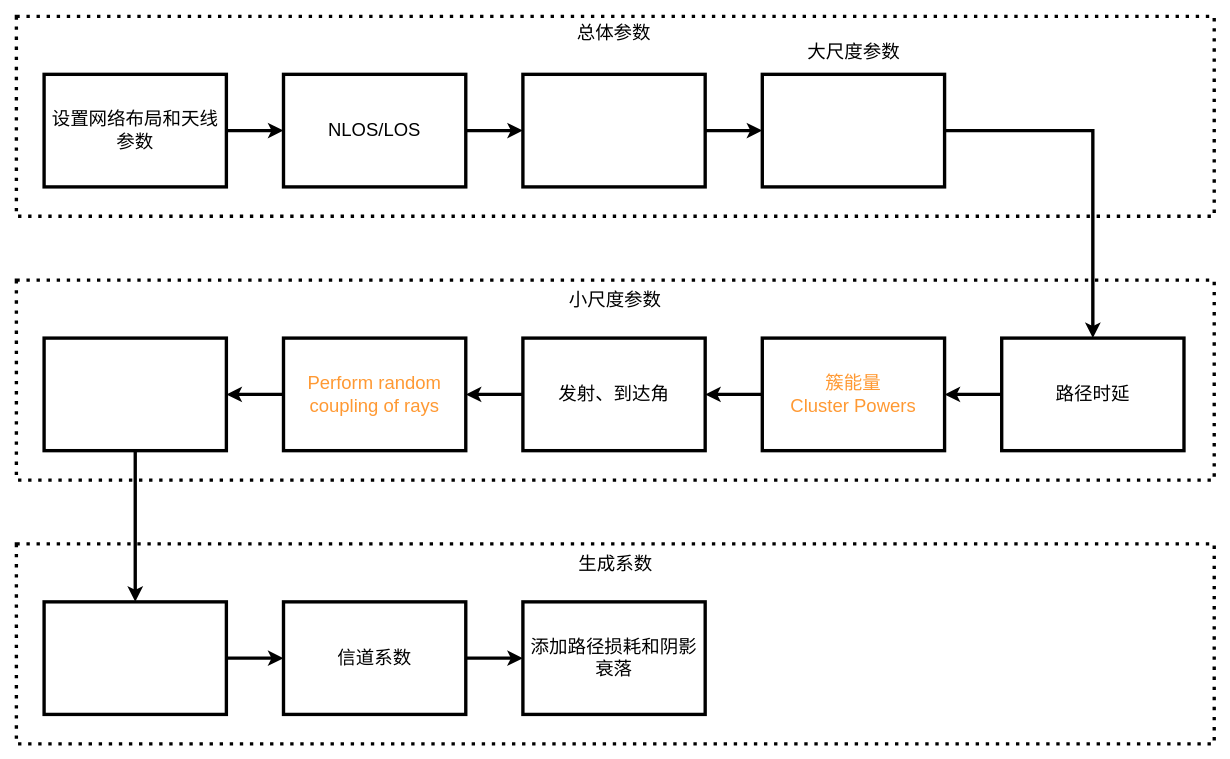
Image size: 1230x759. Some labels were removed from this diagram. The shapes that lost their labels are listed below. From the top down, each one's centre as x and y in pixels, then its label:
At [613,130]: "路径损耗".
At [853,130]: "时延扩展 DS 方位角扩展 AS 阴影衰落 SF 莱斯因子 K".
At [135,394]: "交叉极化比 XPRs".
At [135,658]: "设置初始随机相位".
